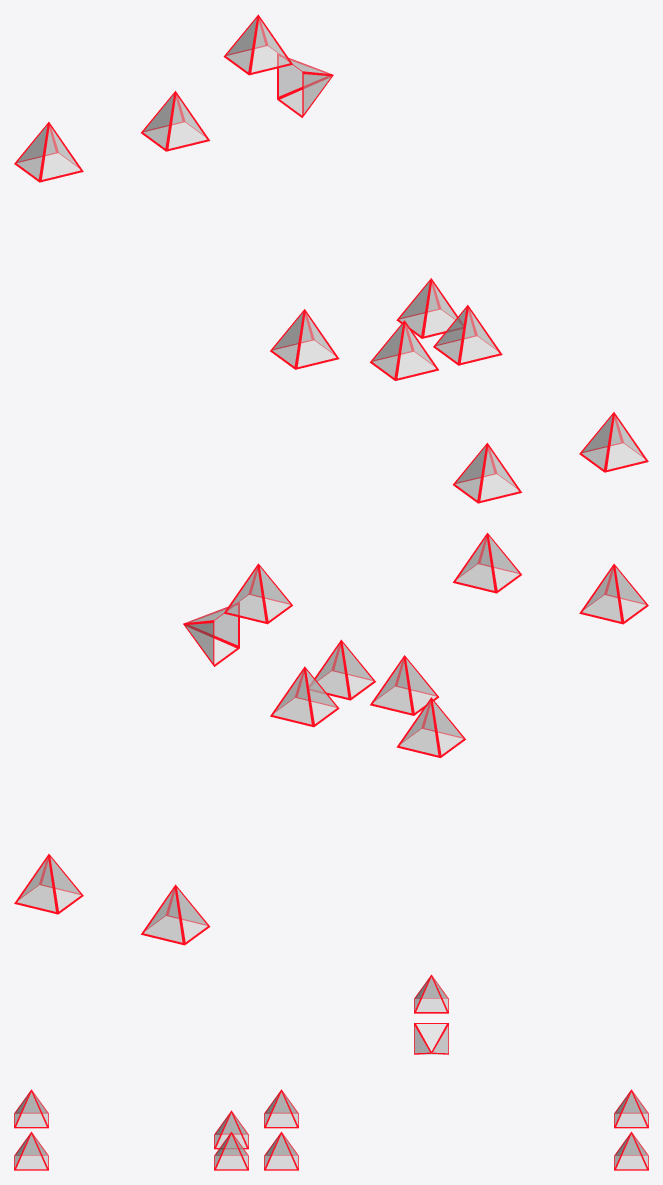
Rendered from (1)Easy Spike.fbx.
The picture shows the model from 3 angles, top to bottom: view 1: azimuth 30°, elevation 25°; view 2: azimuth 150°, elevation 25°; view 3: azimuth 270°, elevation 25°; orthographic projection. The views are drawn at different scales.
Visible parts, largest first — view 1: Spike..001, Spike..008, Spike..010, Spike..002, Spike..003, Spike..006, Spike..007, Spike..004, Spike..009, Spike..005; view 2: Spike..002, Spike..008, Spike..010, Spike..005, Spike..006, Spike..007, Spike..001, Spike..004, Spike..009, Spike..003; view 3: Spike..009, Spike..001, Spike..006, Spike..008, Spike..010, Spike..002, Spike..003, Spike..005, Spike..007, Spike..004.
Boxes of the visible parts, left/top/right/bottom form: Spike..001: left=453, top=443, right=522, bottom=503; Spike..008: left=14, top=122, right=83, bottom=182; Spike..010: left=223, top=14, right=292, bottom=75; Spike..002: left=579, top=412, right=648, bottom=472; Spike..003: left=433, top=305, right=502, bottom=365; Spike..006: left=270, top=309, right=339, bottom=369; Spike..007: left=141, top=91, right=209, bottom=151; Spike..004: left=370, top=320, right=438, bottom=380; Spike..009: left=277, top=53, right=333, bottom=117; Spike..005: left=396, top=278, right=462, bottom=338; Spike..002: left=452, top=533, right=521, bottom=593; Spike..008: left=141, top=884, right=210, bottom=945; Spike..010: left=223, top=563, right=292, bottom=624; Spike..005: left=270, top=666, right=339, bottom=727; Spike..006: left=396, top=697, right=465, bottom=757; Spike..007: left=14, top=854, right=83, bottom=914; Spike..001: left=579, top=564, right=648, bottom=624; Spike..004: left=370, top=655, right=439, bottom=715; Spike..009: left=183, top=602, right=239, bottom=666; Spike..003: left=309, top=639, right=375, bottom=700; Spike..009: left=414, top=1023, right=448, bottom=1054; Spike..001: left=14, top=1089, right=48, bottom=1128; Spike..006: left=264, top=1089, right=298, bottom=1128; Spike..008: left=614, top=1089, right=648, bottom=1128; Spike..010: left=414, top=974, right=448, bottom=1013; Spike..002: left=14, top=1131, right=48, bottom=1170; Spike..003: left=214, top=1131, right=248, bottom=1170; Spike..005: left=264, top=1131, right=298, bottom=1170; Spike..007: left=614, top=1131, right=648, bottom=1170; Spike..004: left=214, top=1110, right=248, bottom=1149.
Size of the model in its own units: 540 by 740 by 2540.
